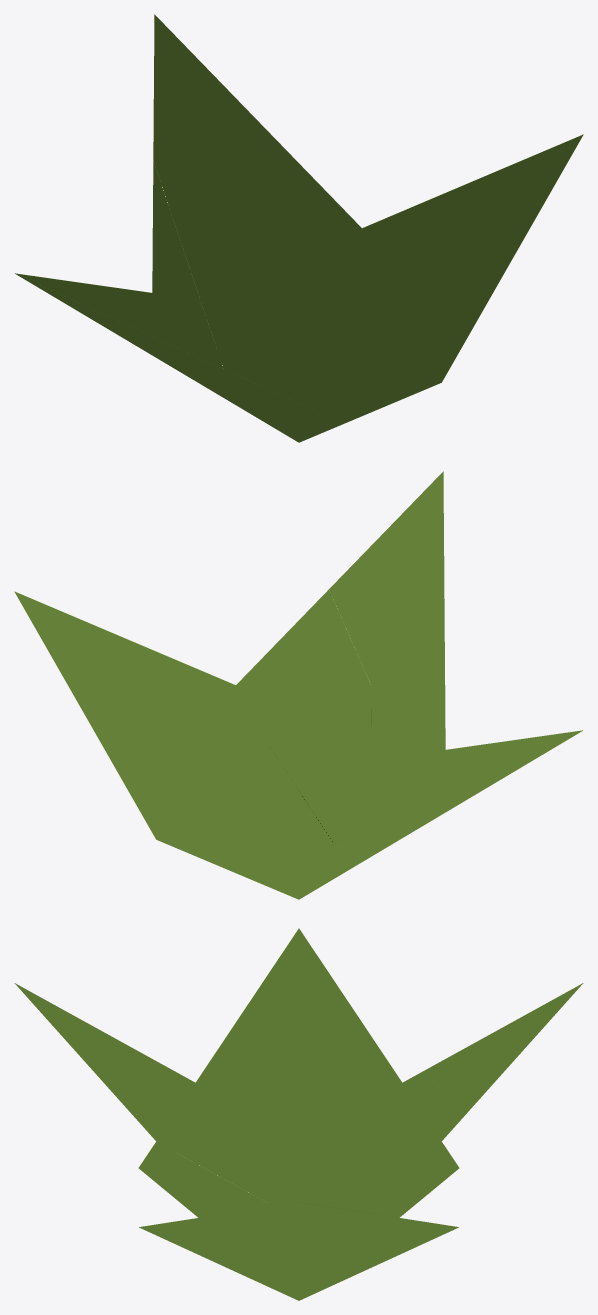
The picture shows the model from 3 angles, top to bottom: view 1: azimuth 30°, elevation 25°; view 2: azimuth 150°, elevation 25°; view 3: azimuth 270°, elevation 25°; orthographic projection.
Parts seen in each view (by area): view 1: model; view 2: model; view 3: model.
Part boxes in pixels (x1,y1,x2,y2): model: (15, 14, 583, 442); model: (14, 471, 582, 899); model: (14, 928, 583, 1300).
Size of the model in its own units: 1.15 by 0.6219 by 1.01.
